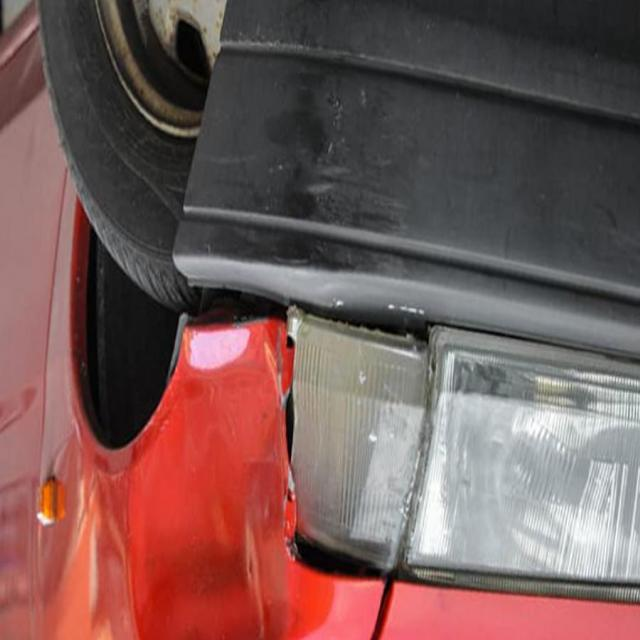dent: (70, 314, 356, 640)
